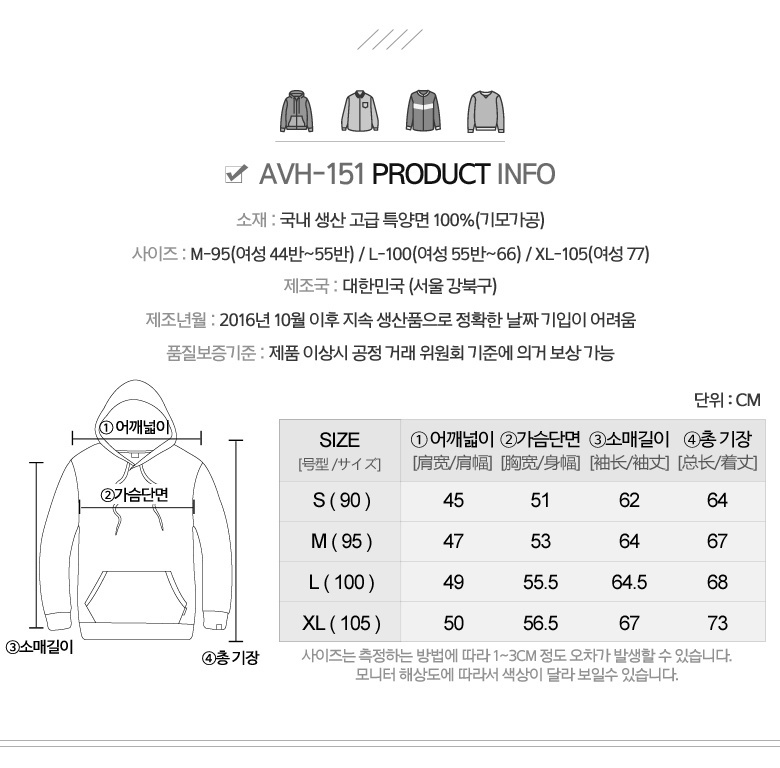table: (281, 421, 767, 644)
